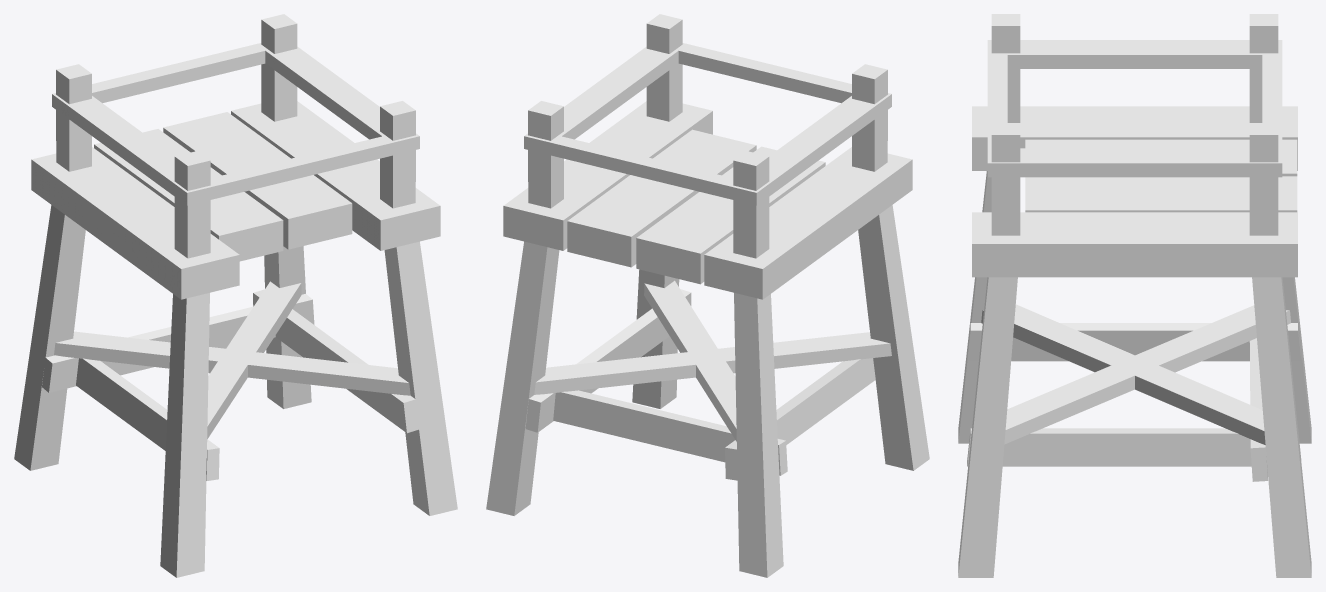
File: DesertTower.glb
The picture shows the model from 3 angles, left to right: view 1: azimuth 30°, elevation 25°; view 2: azimuth 150°, elevation 25°; view 3: azimuth 270°, elevation 25°; orthographic projection. The views are drawn at different scales.
Parts seen in each view (by area): view 1: DesertTower; view 2: DesertTower; view 3: DesertTower.
Part boxes in pixels (bbox=[...]): DesertTower: bbox=[14, 14, 457, 577]; DesertTower: bbox=[486, 14, 929, 577]; DesertTower: bbox=[958, 14, 1311, 577].
Bounding box in the file's own units: 3.84 × 5.14 × 3.84.
Materials: 1 (1 with a texture image).
